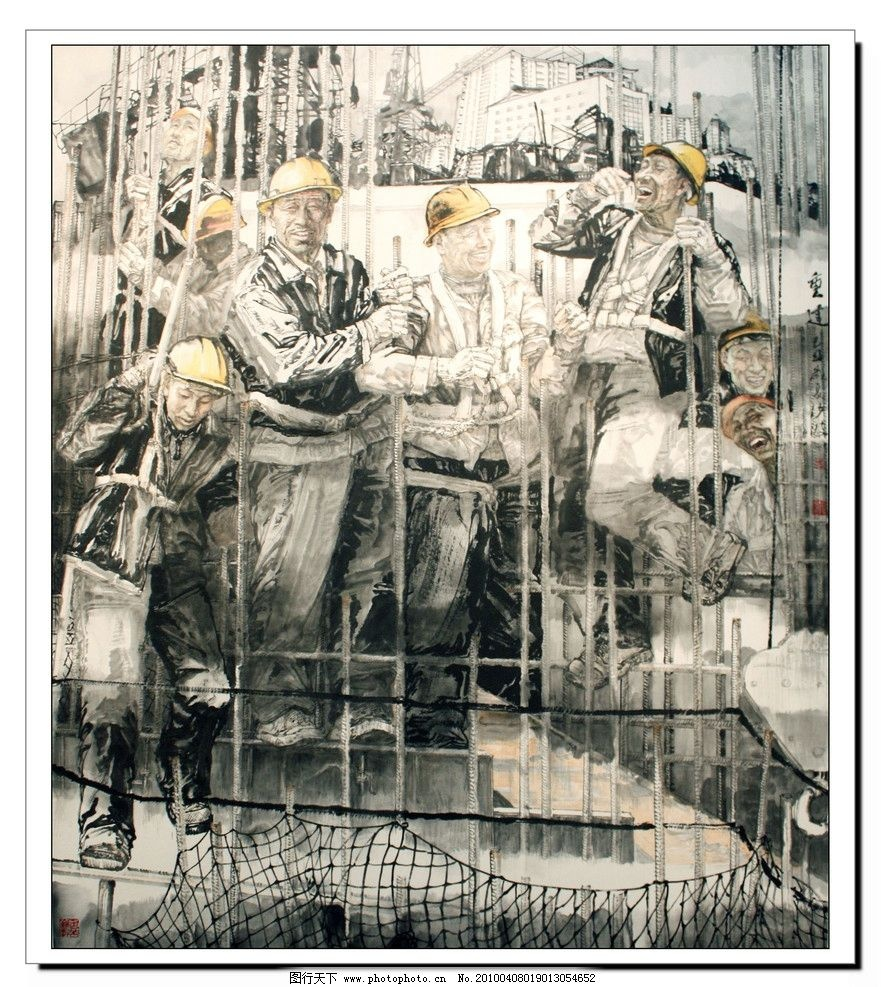yellow: (422, 181, 500, 277), (264, 155, 337, 252), (158, 337, 231, 431), (629, 141, 708, 220), (715, 310, 781, 392), (713, 392, 781, 468), (179, 197, 243, 269), (159, 103, 214, 168)
